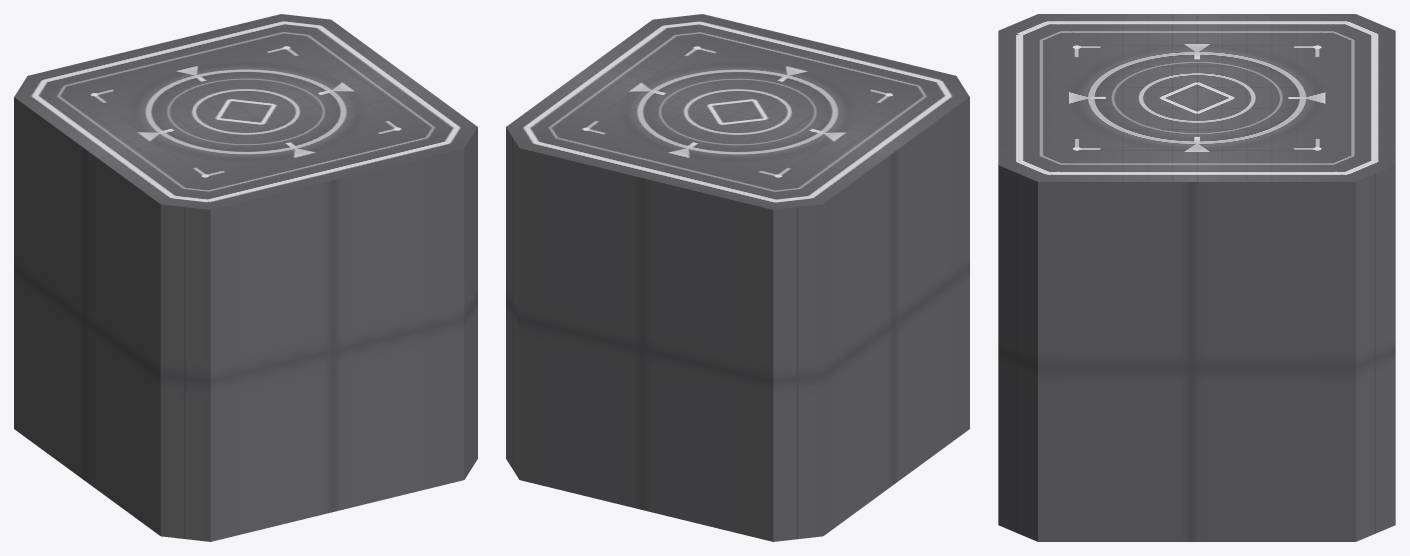
File: select_panel.obj
The picture shows the model from 3 angles, left to right: view 1: azimuth 30°, elevation 25°; view 2: azimuth 150°, elevation 25°; view 3: azimuth 270°, elevation 25°; orthographic projection. The views are drawn at different scales.
Parts seen in each view (by area): view 1: SelectPanel; view 2: SelectPanel; view 3: SelectPanel.
Boxes of the visible parts, box(x1,y1,x2,y2) form: SelectPanel: box(14, 14, 477, 541); SelectPanel: box(506, 14, 969, 541); SelectPanel: box(998, 14, 1395, 541).
Size of the model in its own units: 2 by 2 by 2.
Materials: 1 (1 with a texture image).
